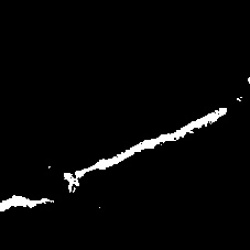crack: (64, 106, 228, 192), (1, 193, 56, 214)
pinhole: (234, 90, 244, 107), (42, 162, 53, 170)
